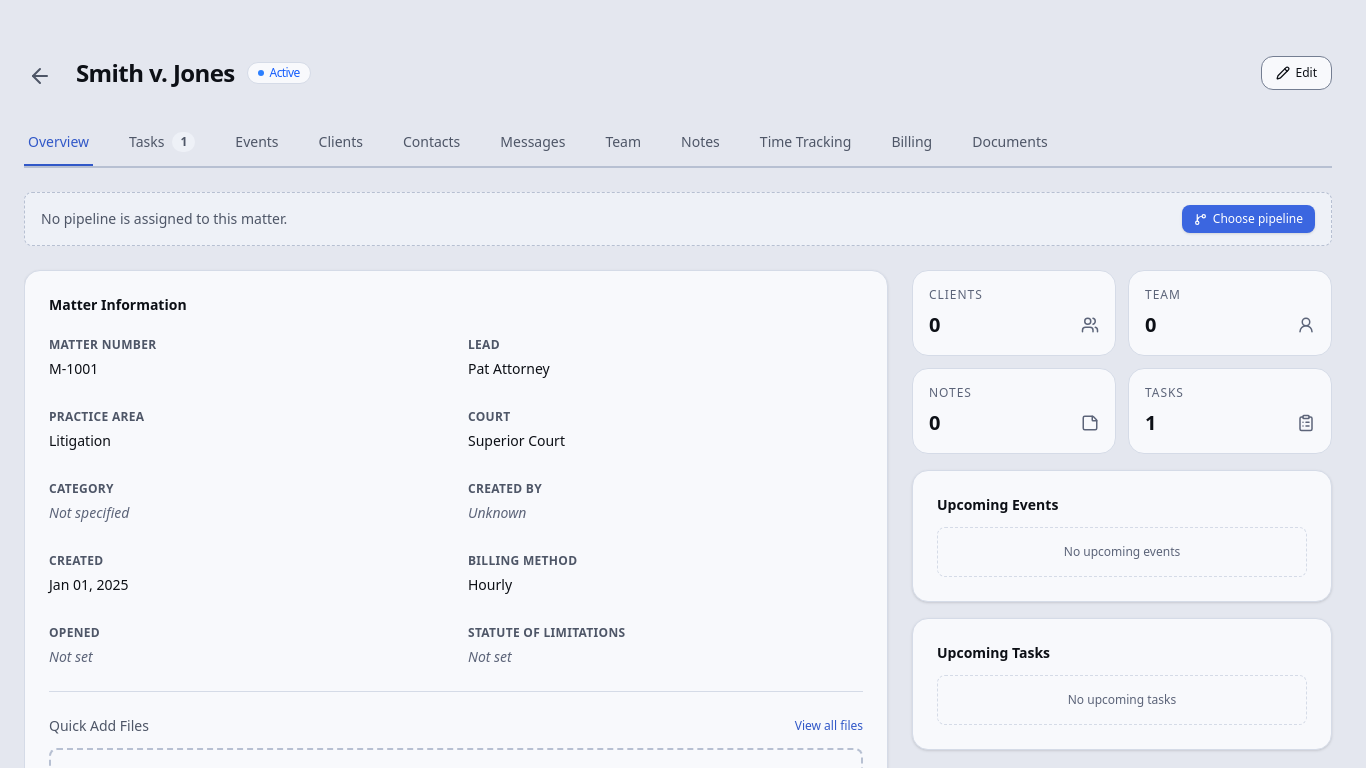
Test: the Tasks tab's Edit action › opens the edit-task modal pre-filled and saves the change
Expected: the heading "Smith v. Jones Active" is shown, [76,56,311,89]
Click the 1st button "Tasks 1". click: (162, 143)
box: [125,120,199,166]
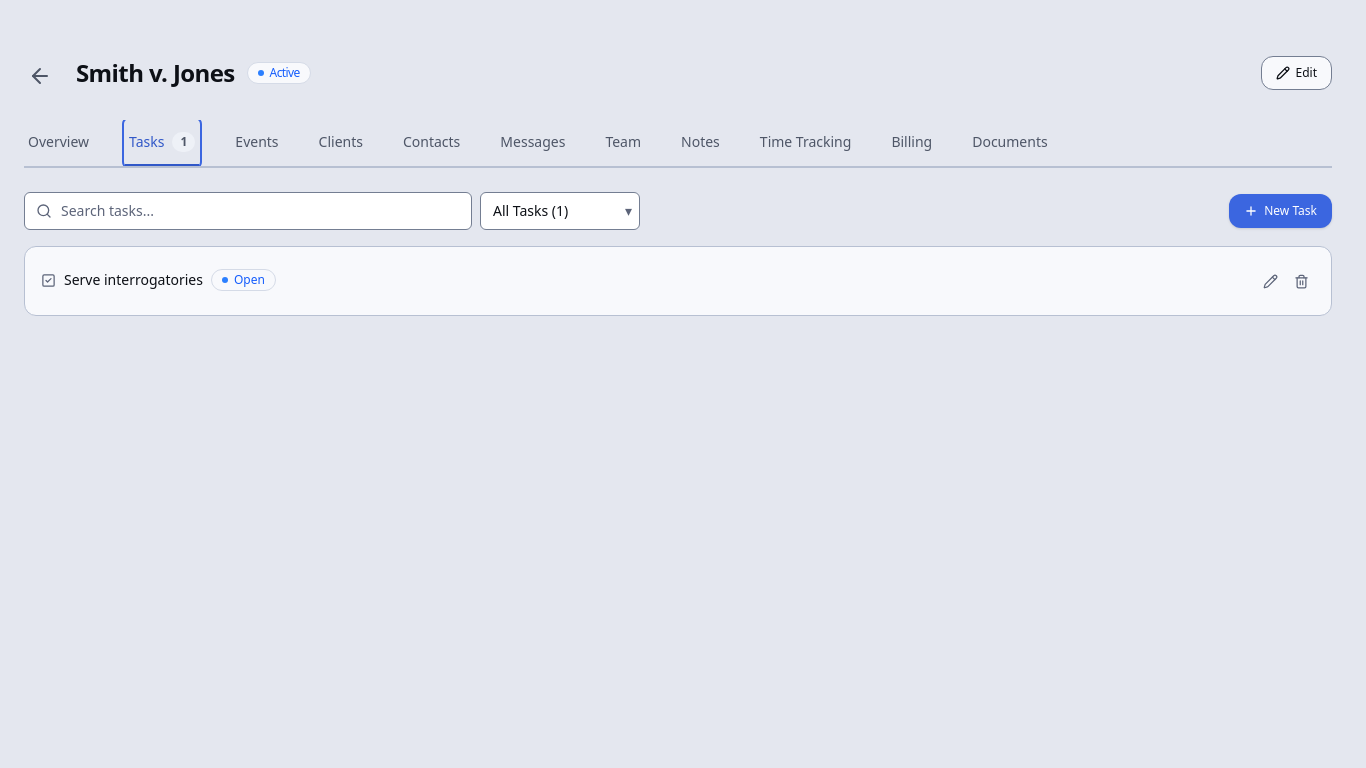
Expected: the text "Serve interrogatories" is shown, [41,270,203,290]
Click the button named "Edit Serve interrogatories". click: (1270, 281)
box: [1257,268,1284,294]
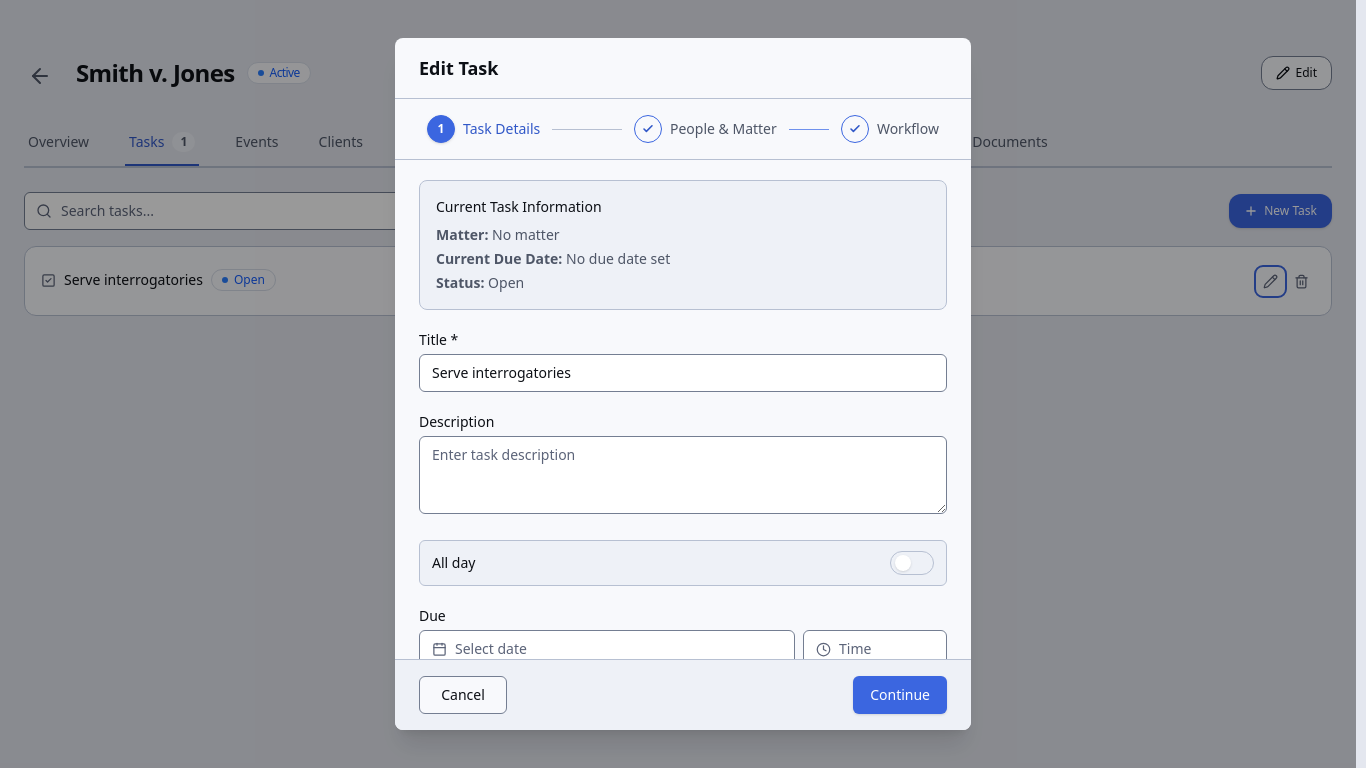
Expected: the field labelled "Title *" holds "Serve interrogatories"
Replace the text in the field labelled "Title *" with "Serve interrogatories - urgent". click: (683, 373)
box: [419,354,947,392]
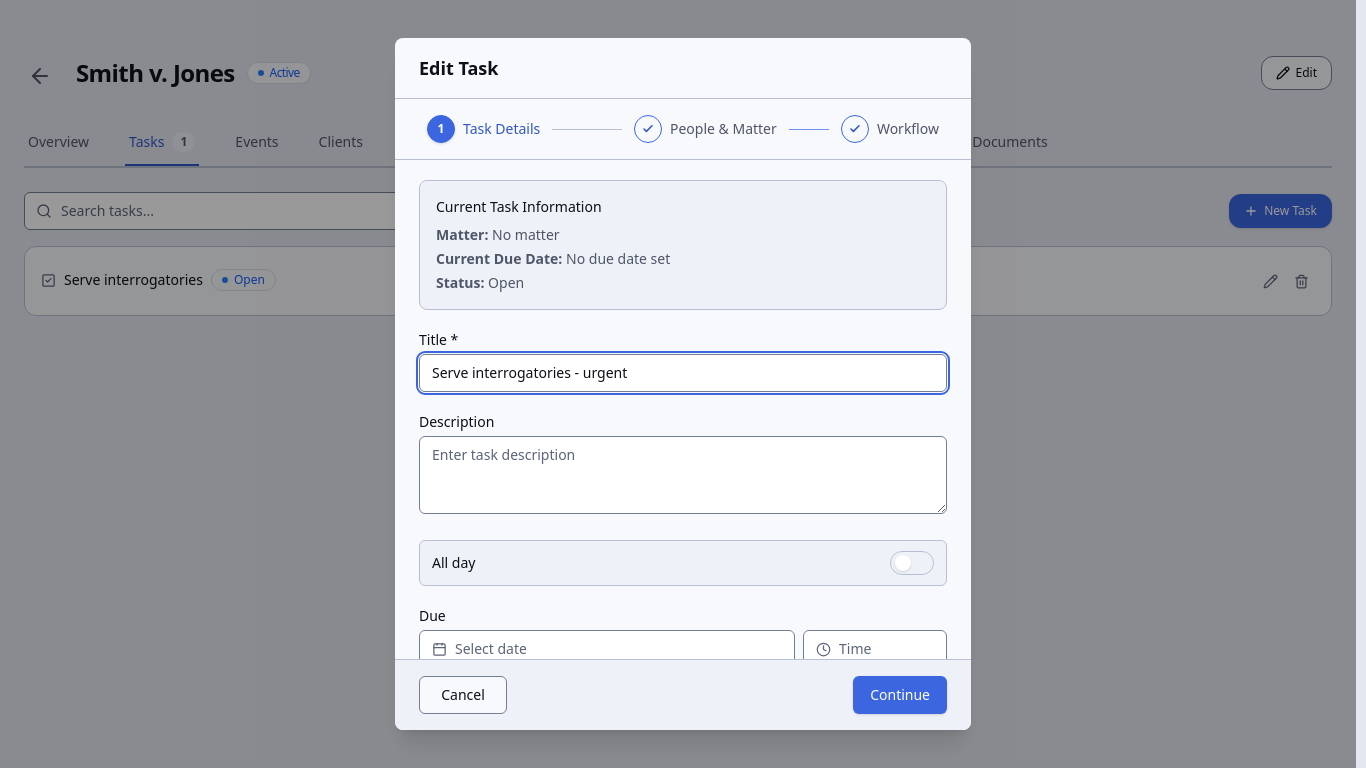
Click the button "Continue". click: (900, 695)
box: [853,676,947,714]
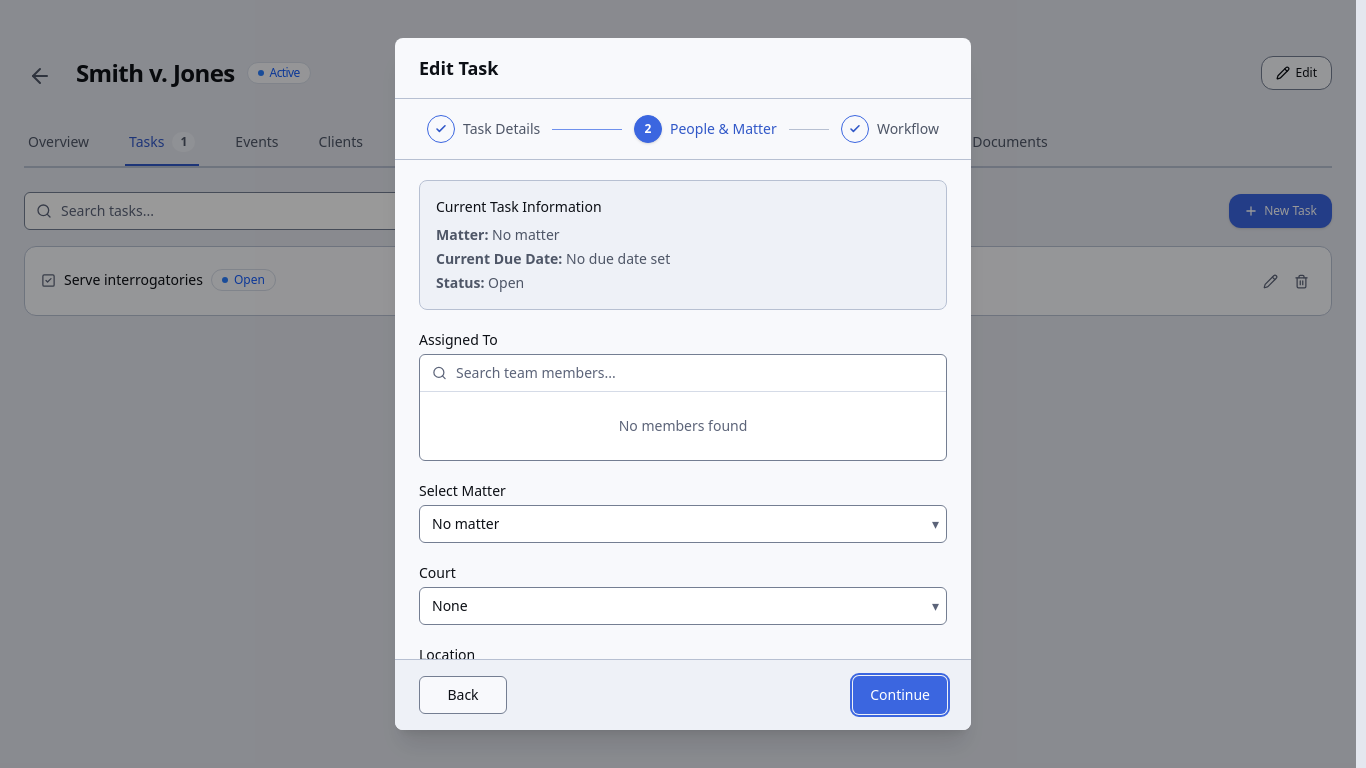
Click the button "Continue". click: (900, 695)
box: [853,676,947,714]
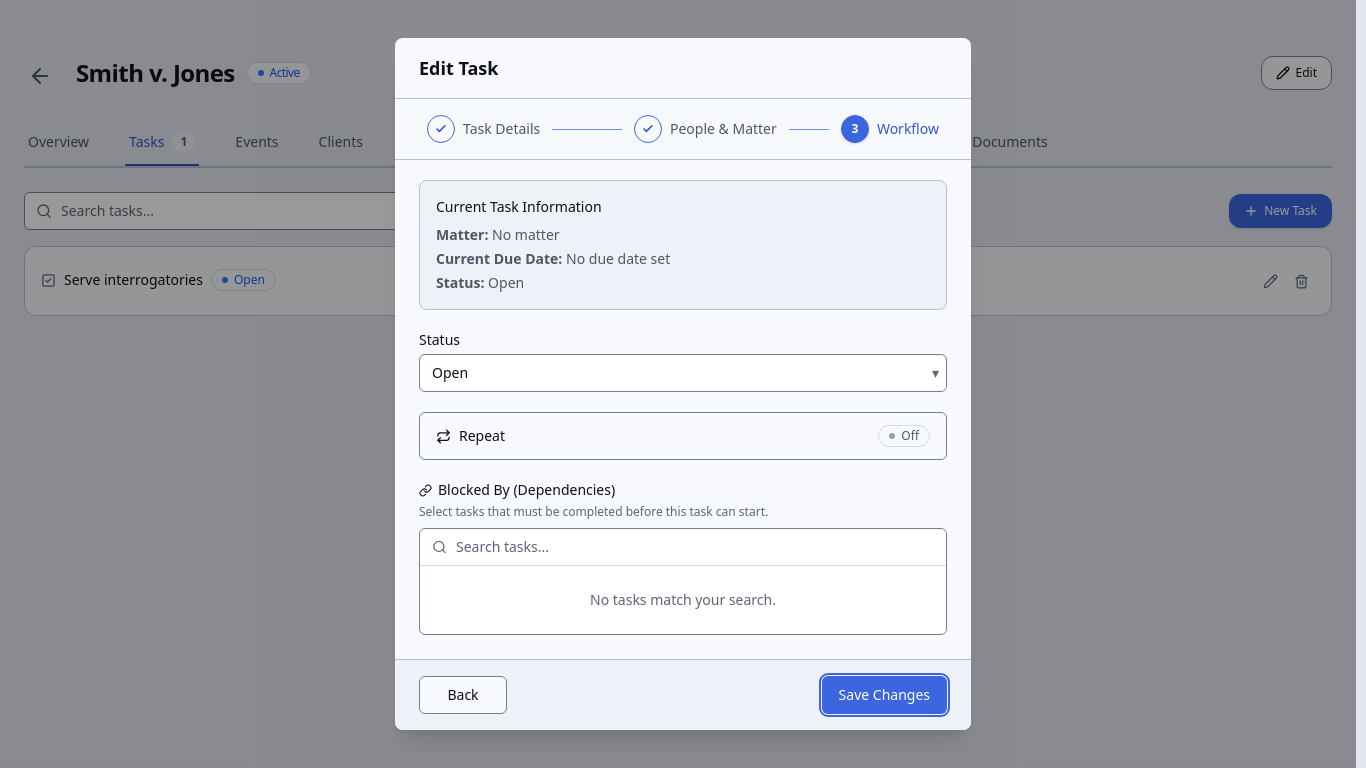
Click the button "Save Changes". click: (884, 695)
box: [822,676,947,714]
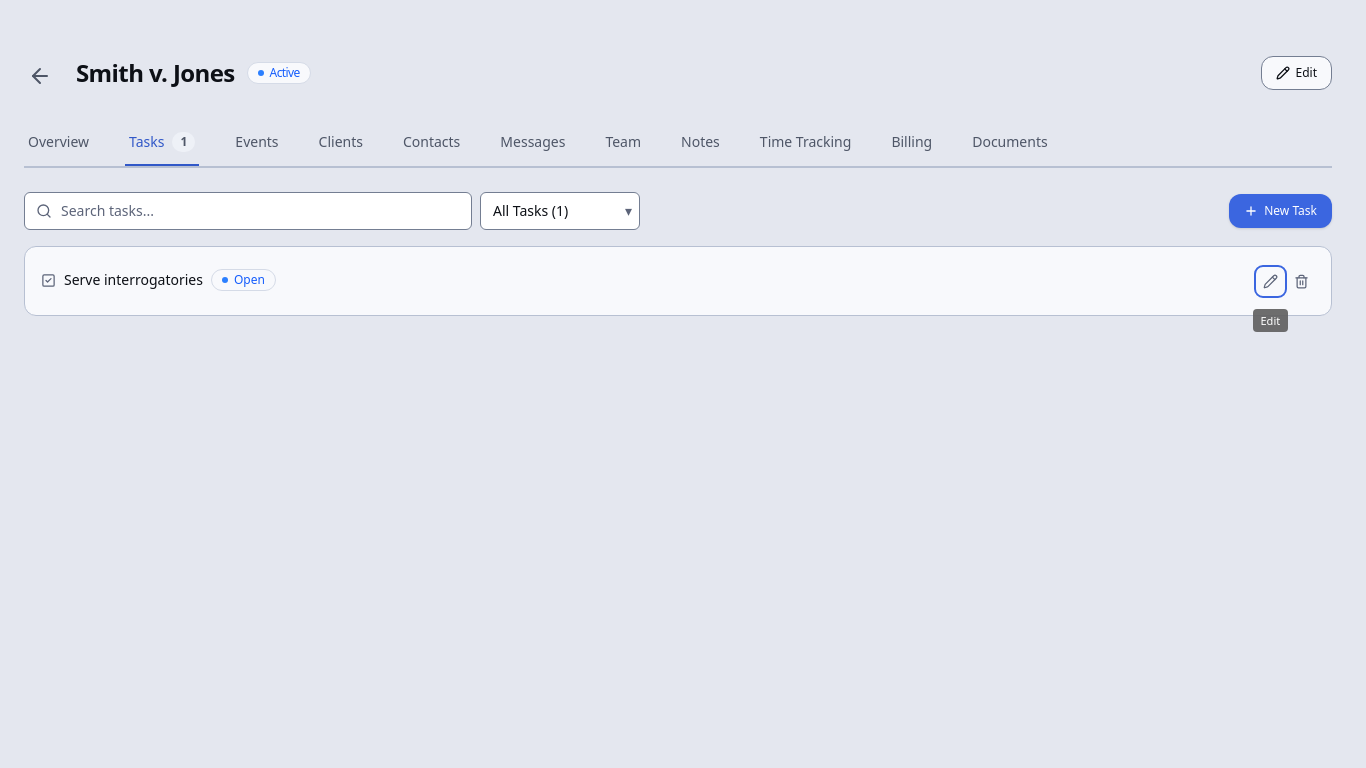
Expected: the heading "Edit Task" is gone
